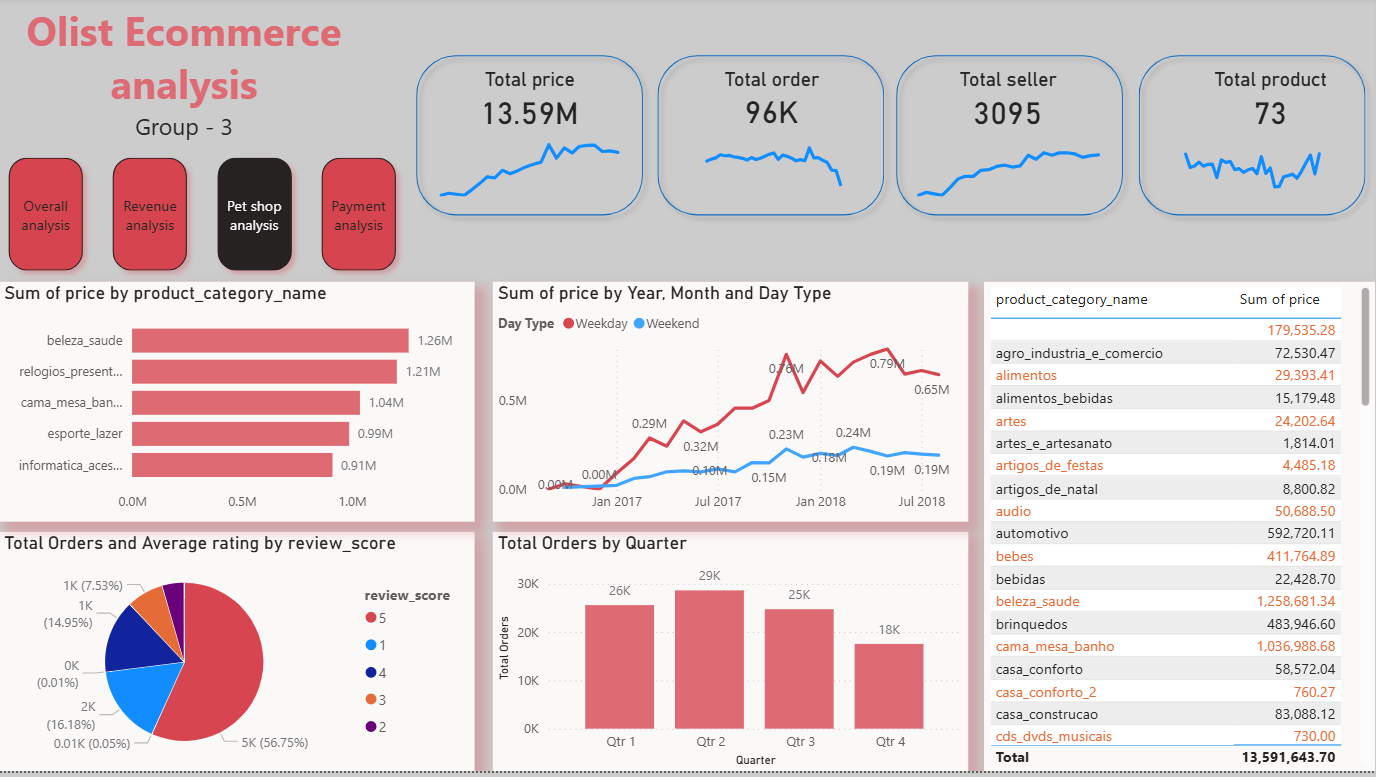

This screenshot's page, from the dashboard's own definition file:
{"tool":"powerbi","page":{"name":"Pet shop analysis","canvas":[1280,720],"ordinal":2},"visuals":[{"type":"pieChart","fields":{"Y":["olist_orders_dataset.Total Orders","olist_order_reviews_dataset.Average rating"],"Category":["olist_order_reviews_dataset.review_score"]},"box":[0,496.8,442.1,223.2],"z":0},{"type":"barChart","fields":{"Category":["olist_products_dataset.product_category_name"],"Y":["Sum(olist_order_items_dataset.price)"]},"box":[0,264,442.1,223.2],"z":1000},{"type":"columnChart","fields":{"Category":["olist_orders_dataset.order_purchase_timestamp.Variation.Date Hierarchy.Quarter"],"Y":["olist_orders_dataset.Total Orders"]},"box":[459.4,496.8,442.1,223.2],"z":2000},{"type":"lineChart","fields":{"Category":["olist_orders_dataset.order_purchase_timestamp.Variation.Date Hierarchy.Year","olist_orders_dataset.order_purchase_timestamp.Variation.Date Hierarchy.Month"],"Series":["olist_orders_dataset.Day Type"],"Y":["Sum(olist_order_items_dataset.price)"]},"box":[459.4,263.5,442.1,223.2],"z":3000},{"type":"textbox","box":[0,0,344.2,157],"z":4000},{"type":"pageNavigator","box":[0,139.7,378.7,123.8],"z":5000},{"type":"card","title":"Total product","fields":{"Values":["olist_products_dataset.Total product"]},"box":[1084.3,64.8,195.8,59],"z":6000},{"type":"card","title":"Total order","fields":{"Values":["olist_orders_dataset.Total Orders"]},"box":[620.6,64.8,195.8,57.6],"z":7000},{"type":"card","title":"Total seller","fields":{"Values":["olist_sellers_dataset.Total seller"]},"box":[841,64.8,195.8,59],"z":8000},{"type":"card","title":"Total price","fields":{"Values":["Sum(olist_order_items_dataset.price)"]},"box":[396,64.8,194.4,59],"z":9000},{"type":"lineChart","fields":{"Category":["olist_orders_dataset.order_purchase_timestamp.Variation.Date Hierarchy.Year","olist_orders_dataset.order_purchase_timestamp.Variation.Date Hierarchy.Quarter","olist_orders_dataset.order_purchase_timestamp.Variation.Date Hierarchy.Month","olist_orders_dataset.order_purchase_timestamp.Variation.Date Hierarchy.Day"],"Y":["Sum(olist_order_items_dataset.price)"]},"box":[396,122.4,194.4,67.7],"z":10000},{"type":"lineChart","fields":{"Category":["olist_orders_dataset.order_purchase_timestamp.Variation.Date Hierarchy.Year","olist_orders_dataset.order_purchase_timestamp.Variation.Date Hierarchy.Quarter","olist_orders_dataset.order_purchase_timestamp.Variation.Date Hierarchy.Month","olist_orders_dataset.order_purchase_timestamp.Variation.Date Hierarchy.Day"],"Y":["olist_orders_dataset.Total Orders"]},"box":[639.4,122.4,195.8,67.7],"z":11000},{"type":"lineChart","fields":{"Category":["olist_orders_dataset.order_purchase_timestamp.Variation.Date Hierarchy.Year","olist_orders_dataset.order_purchase_timestamp.Variation.Date Hierarchy.Quarter","olist_orders_dataset.order_purchase_timestamp.Variation.Date Hierarchy.Month","olist_orders_dataset.order_purchase_timestamp.Variation.Date Hierarchy.Day"],"Y":["olist_sellers_dataset.Total seller"]},"box":[841,122.4,197.3,67.7],"z":12000},{"type":"lineChart","fields":{"Category":["olist_orders_dataset.order_purchase_timestamp.Variation.Date Hierarchy.Year","olist_orders_dataset.order_purchase_timestamp.Variation.Date Hierarchy.Quarter","olist_orders_dataset.order_purchase_timestamp.Variation.Date Hierarchy.Month","olist_orders_dataset.order_purchase_timestamp.Variation.Date Hierarchy.Day"],"Y":["olist_orders_dataset.Revenue per Order"]},"box":[1084.3,123.8,195.8,67.7],"z":13000},{"type":"tableEx","fields":{"Values":["olist_products_dataset.product_category_name","Sum(olist_order_items_dataset.price)"]},"box":[915.8,263.5,364.3,456.5],"z":14000},{"type":"shape","box":[378.7,44.6,229,167],"z":15000},{"type":"shape","box":[825.1,44.6,229,167],"z":16000},{"type":"shape","box":[603.4,44.6,229,167],"z":17000},{"type":"shape","box":[1051.2,44.6,229,167],"z":18000}]}

Visuals, with their boxes in screenshot pixels (x1, y1, x2, y2), scaled from the page's 1280x720 canvas onto the 1376x777 screenshot:
pieChart - olist_orders_dataset.Total Orders x olist_order_reviews_dataset.Average rating: <region>0, 536, 475, 776</region>
barChart - olist_products_dataset.product_category_name x Sum(olist_order_items_dataset.price): <region>0, 285, 475, 526</region>
columnChart - olist_orders_dataset.order_purchase_timestamp.Variation.Date Hierarchy.Quarter x olist_orders_dataset.Total Orders: <region>494, 536, 969, 776</region>
lineChart - olist_orders_dataset.order_purchase_timestamp.Variation.Date Hierarchy.Year x olist_orders_dataset.order_purchase_timestamp.Variation.Date Hierarchy.Month: <region>494, 284, 969, 525</region>
textbox: <region>0, 0, 370, 169</region>
pageNavigator: <region>0, 151, 407, 284</region>
"Total product" card: <region>1166, 70, 1375, 134</region>
"Total order" card: <region>667, 70, 878, 132</region>
"Total seller" card: <region>904, 70, 1115, 134</region>
"Total price" card: <region>426, 70, 635, 134</region>
lineChart - olist_orders_dataset.order_purchase_timestamp.Variation.Date Hierarchy.Year x olist_orders_dataset.order_purchase_timestamp.Variation.Date Hierarchy.Quarter: <region>426, 132, 635, 205</region>
lineChart - olist_orders_dataset.order_purchase_timestamp.Variation.Date Hierarchy.Year x olist_orders_dataset.order_purchase_timestamp.Variation.Date Hierarchy.Quarter: <region>687, 132, 898, 205</region>
lineChart - olist_orders_dataset.order_purchase_timestamp.Variation.Date Hierarchy.Year x olist_orders_dataset.order_purchase_timestamp.Variation.Date Hierarchy.Quarter: <region>904, 132, 1116, 205</region>
lineChart - olist_orders_dataset.order_purchase_timestamp.Variation.Date Hierarchy.Year x olist_orders_dataset.order_purchase_timestamp.Variation.Date Hierarchy.Quarter: <region>1166, 134, 1375, 207</region>
tableEx - olist_products_dataset.product_category_name x Sum(olist_order_items_dataset.price): <region>984, 284, 1375, 776</region>
shape: <region>407, 48, 653, 228</region>
shape: <region>887, 48, 1133, 228</region>
shape: <region>649, 48, 895, 228</region>
shape: <region>1130, 48, 1375, 228</region>
